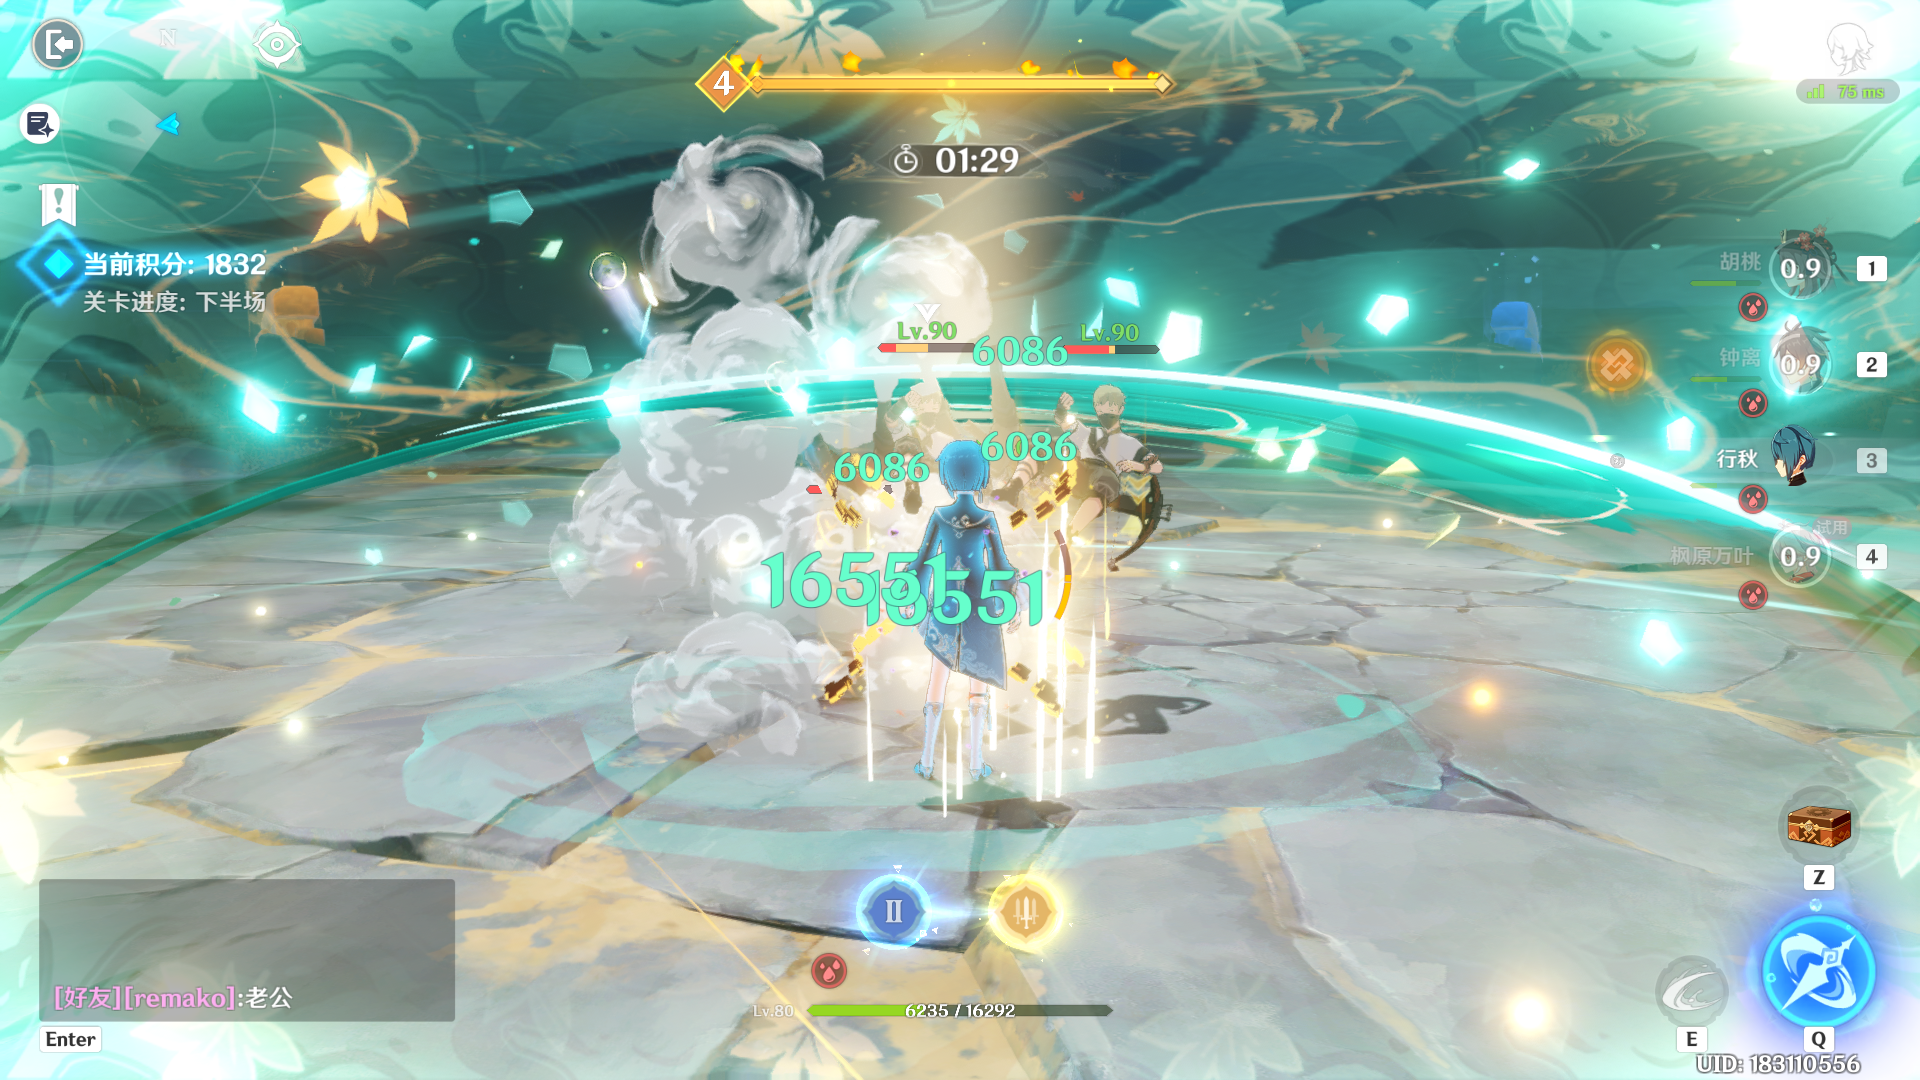character: (844, 421, 1076, 814)
robber: (1021, 363, 1193, 560)
